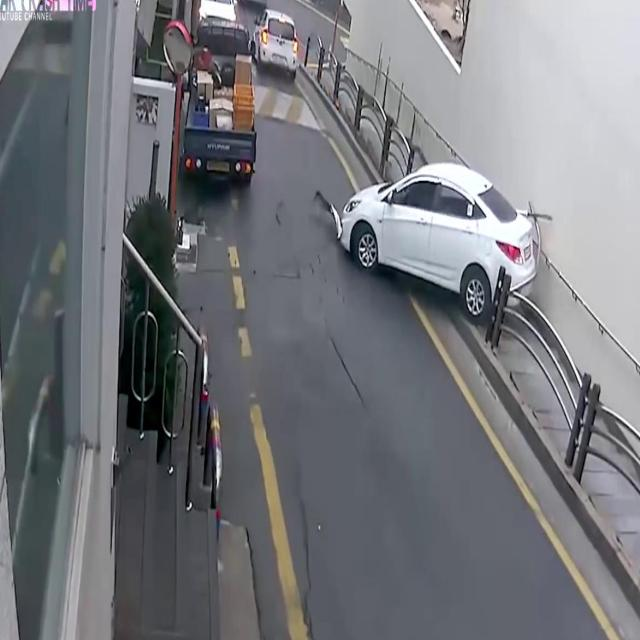accident: (312, 149, 560, 334)
non_accident: (173, 0, 302, 197)
